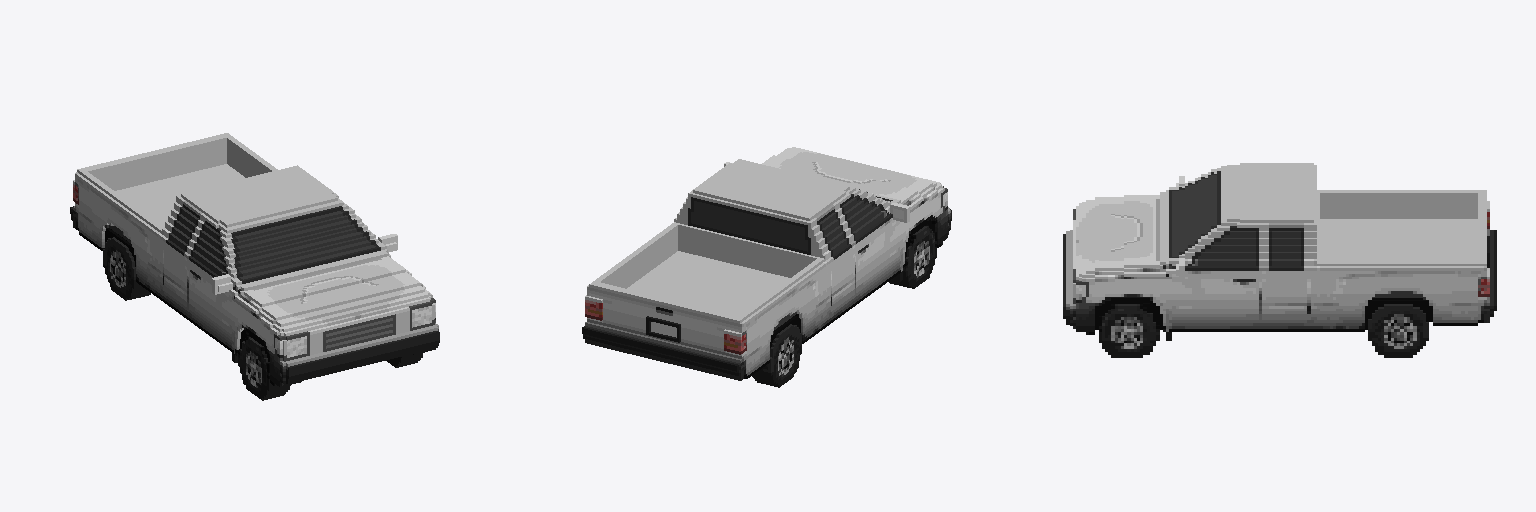
The picture shows the model from 3 angles: view 1: azimuth 30°, elevation 25°; view 2: azimuth 150°, elevation 25°; view 3: azimuth 270°, elevation 25°; orthographic projection.
Visible parts, largest first — view 1: Side-Pickup-Truck-PNG-Image; view 2: Side-Pickup-Truck-PNG-Image; view 3: Side-Pickup-Truck-PNG-Image.
Part boxes in pixels (bbox=[...]): Side-Pickup-Truck-PNG-Image: bbox=[70, 133, 439, 400]; Side-Pickup-Truck-PNG-Image: bbox=[582, 147, 951, 387]; Side-Pickup-Truck-PNG-Image: bbox=[1063, 163, 1496, 357].
Size of the model in its own units: 6.6 by 4.4 by 13.5.
Materials: 1 (1 with a texture image).